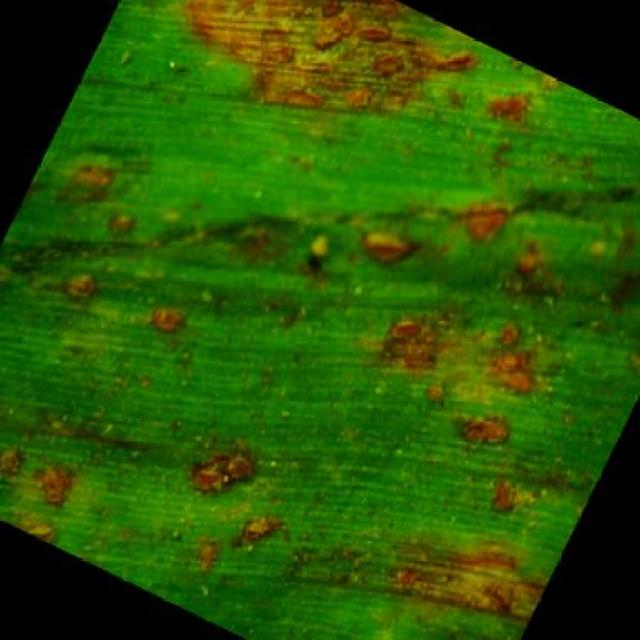Corn_Rust: (69, 100, 566, 545)
